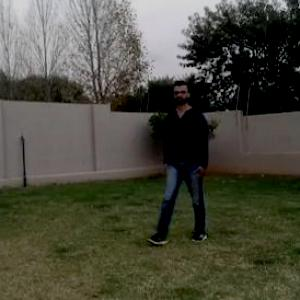follow: (166, 77, 202, 220)
